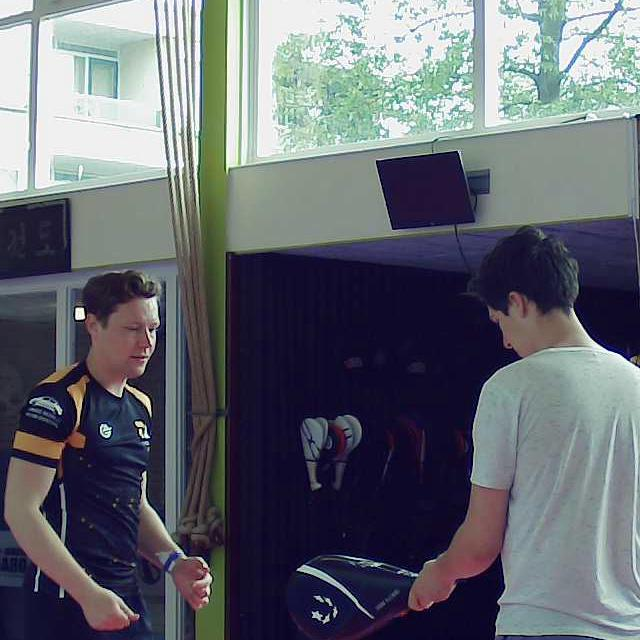paddle: (283, 552, 440, 640)
